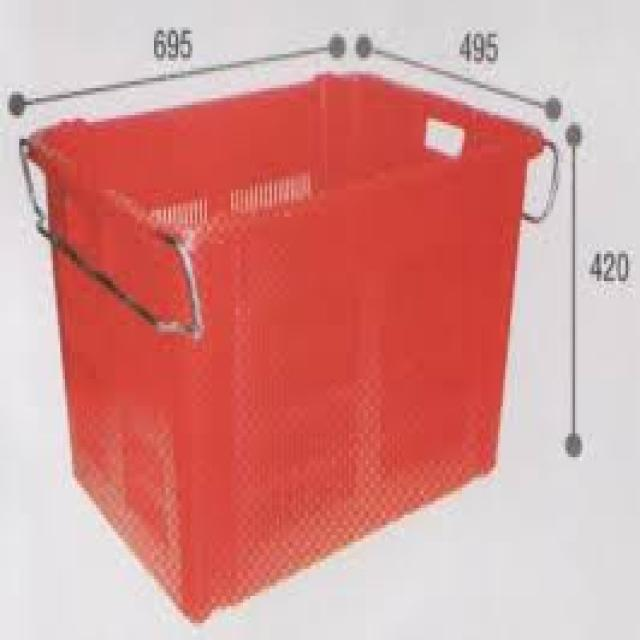basket: (29, 74, 546, 621)
